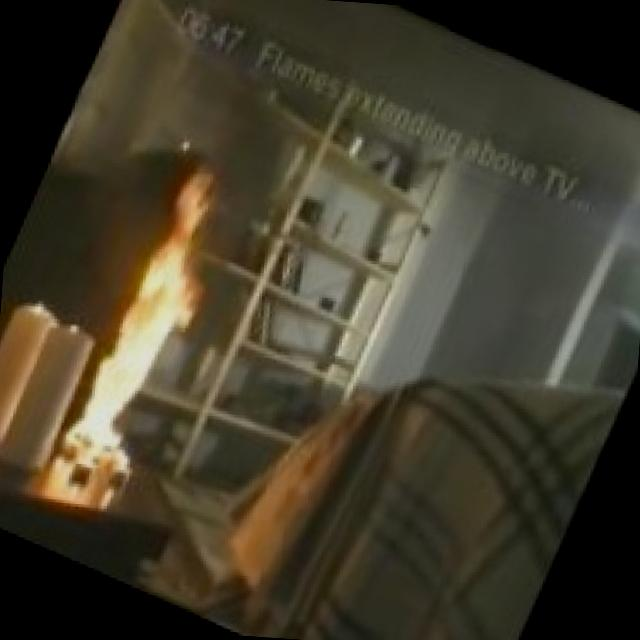fire: (0, 108, 290, 526)
